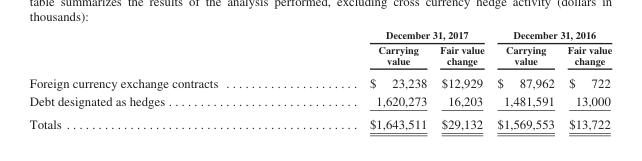table: (28, 28, 611, 130)
table column: (28, 28, 293, 130), (293, 28, 432, 130), (490, 28, 560, 130), (432, 28, 490, 130), (560, 28, 611, 130)
table column header: (28, 28, 611, 70)
table row: (28, 42, 611, 70), (28, 70, 611, 91), (28, 91, 611, 111), (28, 111, 611, 130), (28, 28, 611, 42)
table spanning cell: (293, 28, 490, 42), (490, 28, 611, 42)
